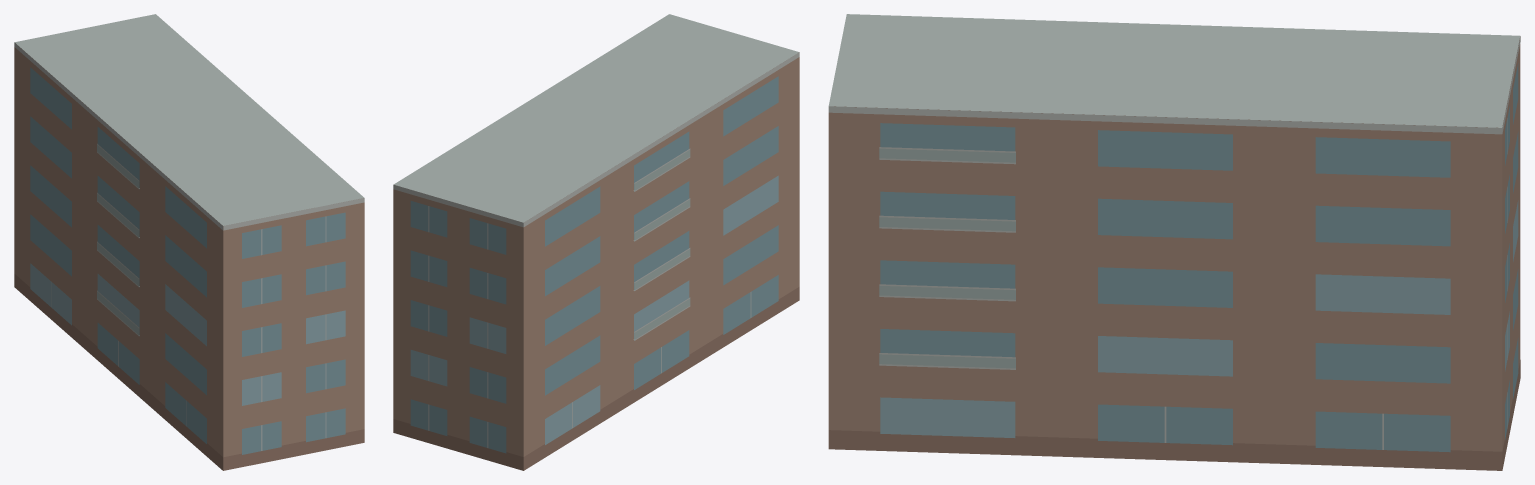
Rendered from survey-upis-33014689.glb.
The picture shows the model from 3 angles, left to right: view 1: azimuth 30°, elevation 25°; view 2: azimuth 150°, elevation 25°; view 3: azimuth 270°, elevation 25°; orthographic projection. The views are drawn at different scales.
Parts seen in each view (by area): view 1: survey-upis-33014689.tmp; view 2: survey-upis-33014689.tmp; view 3: survey-upis-33014689.tmp.
Part boxes in pixels (box(x1,y1,x2,y2)): survey-upis-33014689.tmp: box(14, 14, 364, 470); survey-upis-33014689.tmp: box(393, 14, 799, 470); survey-upis-33014689.tmp: box(828, 14, 1520, 470).
Bounding box in the file's own units: 9.2 × 12.9 × 23.59.
